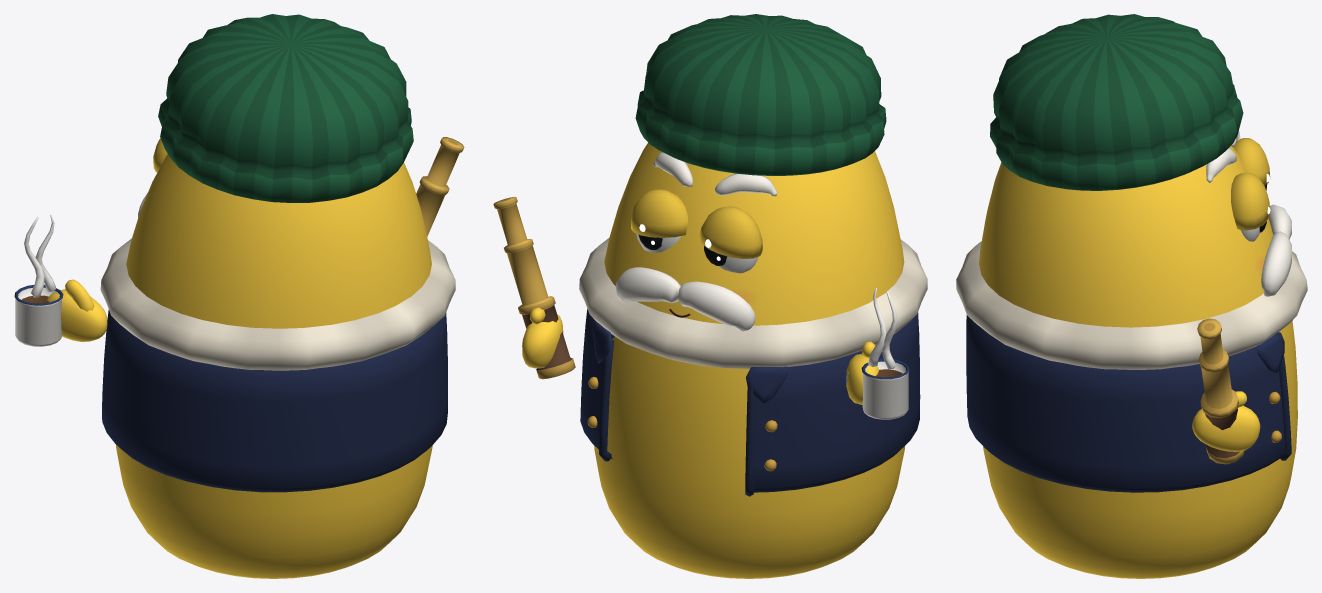
Rendered from miron.glb.
3 views of the same model, side by side, from view 1: azimuth 30°, elevation 25°; view 2: azimuth 150°, elevation 25°; view 3: azimuth 270°, elevation 25° (orthographic).
Visible parts, largest first — view 1: body, prop.L, hand.L, prop.R; view 2: body, lid, prop.R, prop.L, hand.R, eyes, hand.L; view 3: body, prop.R, lid, hand.R.
Boxes of the visible parts, x1,y1,x2,y2 form: body: (100,14,455,578); prop.L: (14,214,63,346); hand.L: (47,279,107,341); prop.R: (416,137,464,236); body: (579,14,927,578); lid: (631,189,762,258); prop.R: (493,197,575,379); prop.L: (846,288,909,419); hand.R: (522,307,563,368); eyes: (636,224,758,273); hand.L: (846,341,878,404); body: (956,14,1307,578); prop.R: (1197,318,1244,464); lid: (1231,138,1270,230); hand.R: (1192,391,1260,451).
Bounding box in the file's own units: 1.62 × 1.81 × 1.15.
